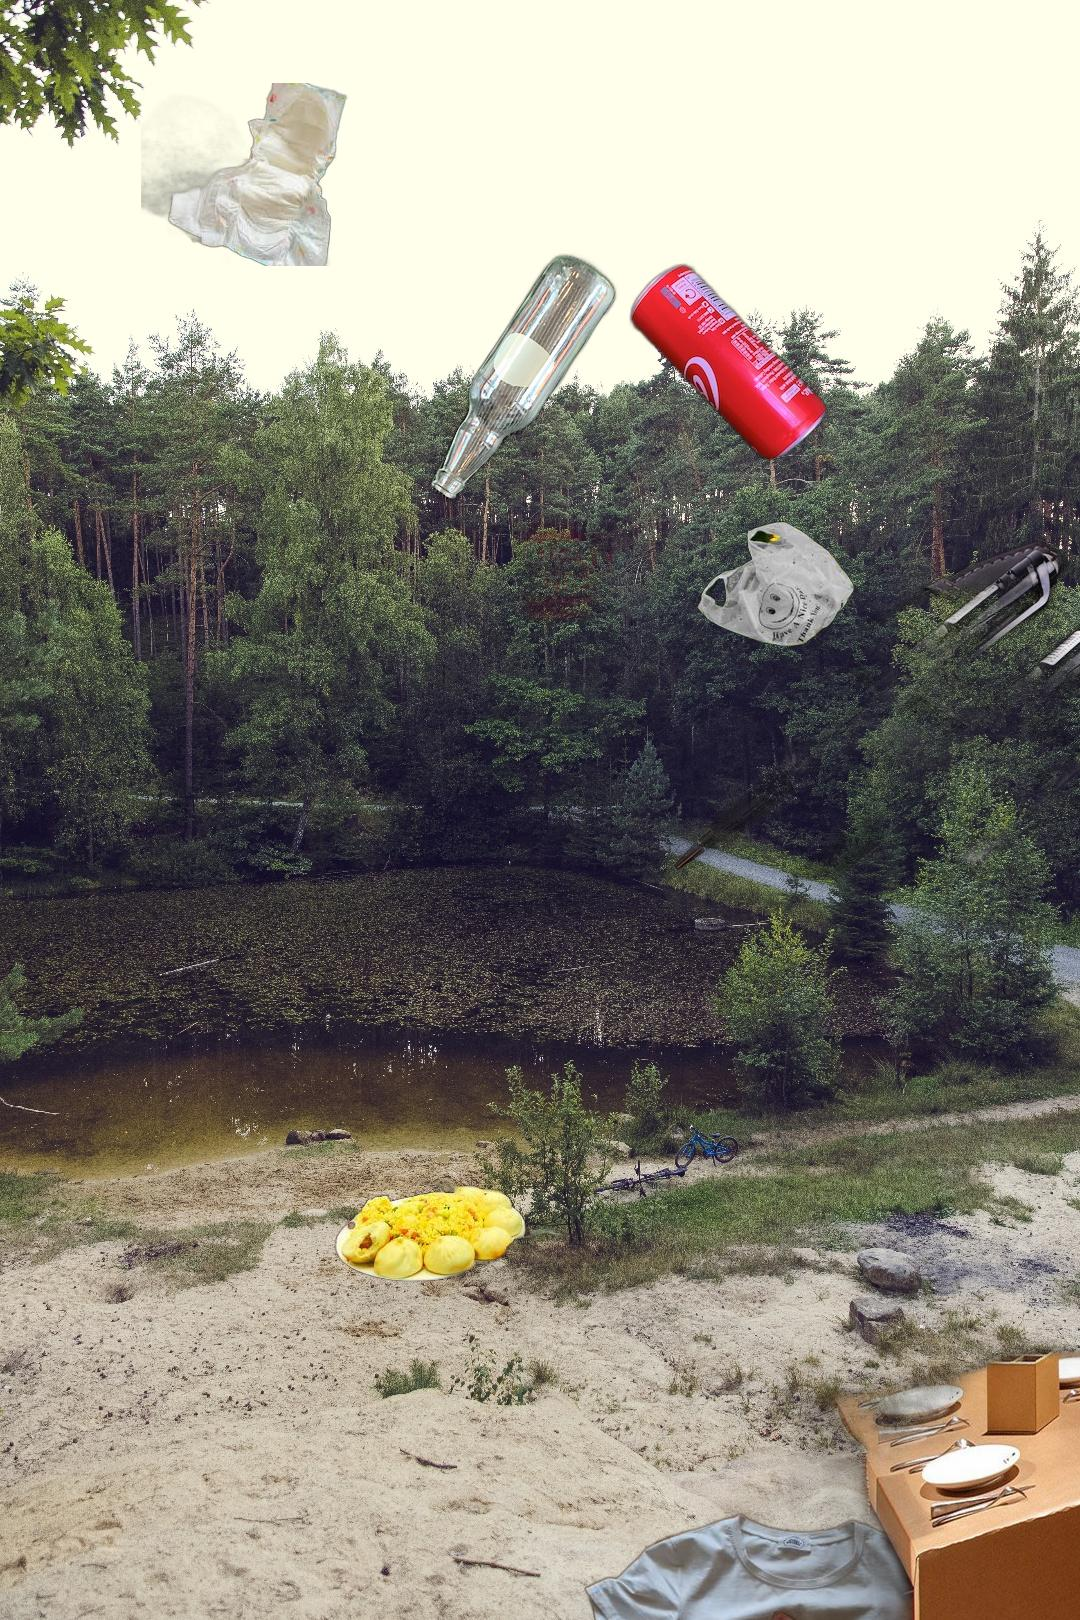biological: (331, 1108, 749, 1282)
clothes: (582, 1414, 981, 1620)
glass: (425, 250, 620, 507)
metal-cans: (626, 258, 832, 466)
penholder: (491, 509, 1080, 880)
plastic-bag: (693, 520, 857, 648)
trash: (141, 83, 350, 266)
trashbox-cardboard: (710, 509, 1080, 1620)
